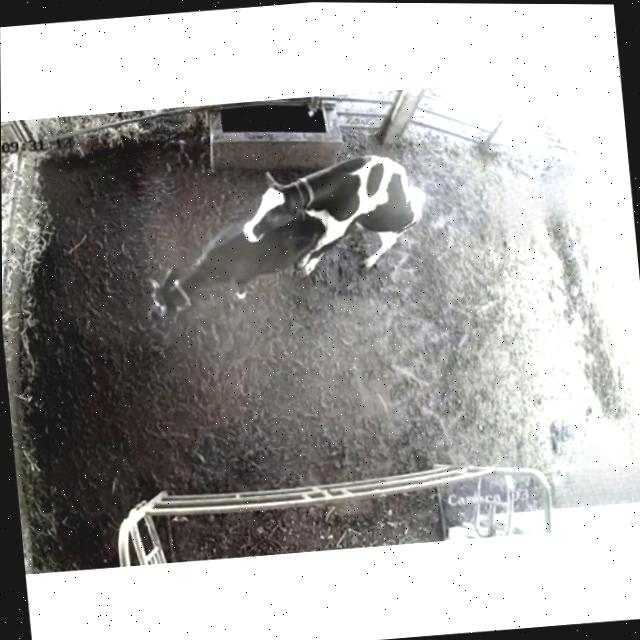ride: (240, 153, 425, 274)
